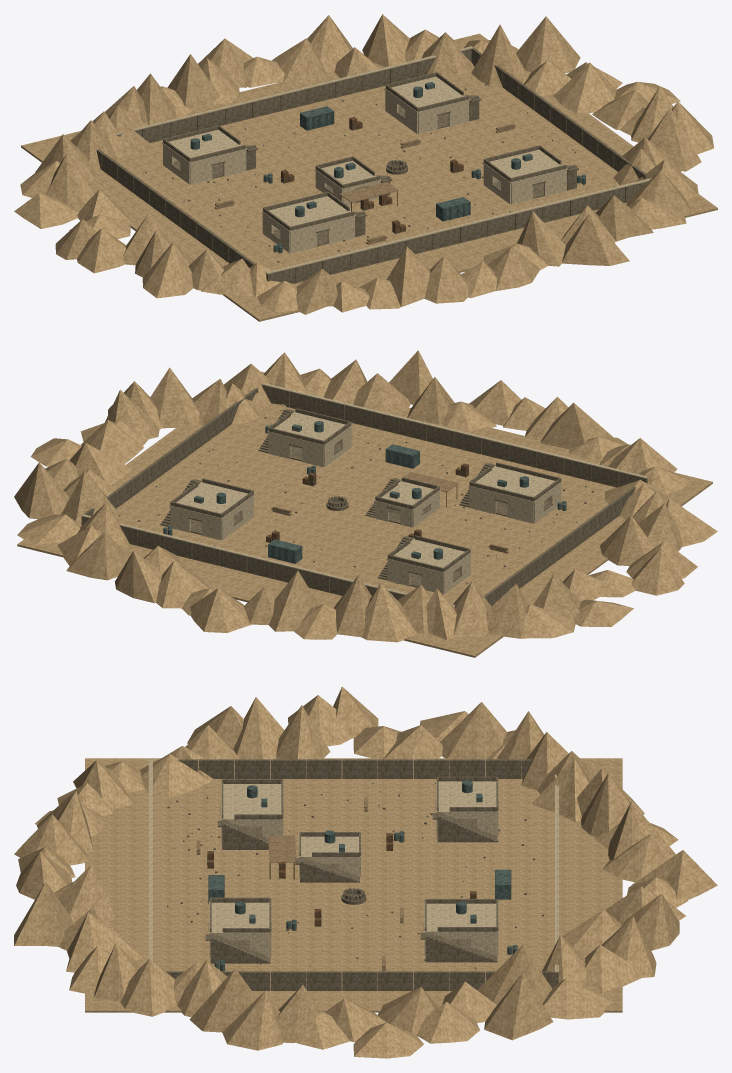
Rendered from Desert_Outpost.glb.
3 views of the same model, one above another, from view 1: azimuth 30°, elevation 25°; view 2: azimuth 150°, elevation 25°; view 3: azimuth 270°, elevation 25° (orthographic). The views are drawn at different scales.
Parts seen in each view (by area): view 1: Distant rock formations, Ground, Perimeter, Perimeter coping, Workshop, Radio house, West barracks, East barracks, Workshop Roof, Freight container, Radio house Roof, East barracks Roof (+12 smaller); view 2: Distant rock formations, Ground, Perimeter, Perimeter coping, Workshop, East barracks, Radio house, West barracks, Workshop Roof, Freight container, Radio house Roof, East barracks Roof (+10 smaller); view 3: Distant rock formations, Ground, Perimeter, Workshop Roof, Radio house Roof, Perimeter coping, West barracks Roof, East barracks Roof, Radio house stairs, West barracks stairs, East barracks stairs, Market Roof (+11 smaller).
Part boxes in pixels (<box>): Distant rock formations: <box>14,14,713,314</box>; Ground: <box>21,33,717,321</box>; Perimeter: <box>96,47,647,283</box>; Perimeter coping: <box>114,46,651,274</box>; Workshop: <box>262,213,355,253</box>; Radio house: <box>385,90,469,134</box>; West barracks: <box>163,144,246,184</box>; East barracks: <box>483,164,566,204</box>; Workshop Roof: <box>262,196,356,232</box>; Freight container: <box>300,106,470,221</box>; Radio house Roof: <box>384,76,470,113</box>; East barracks Roof: <box>482,149,567,183</box>; Distant rock formations: <box>14,350,717,642</box>; Ground: <box>17,371,712,657</box>; Perimeter: <box>81,385,647,606</box>; Perimeter coping: <box>81,383,648,606</box>; Workshop: <box>469,484,561,523</box>; East barracks: <box>268,427,351,467</box>; Radio house: <box>170,496,253,540</box>; West barracks: <box>387,554,470,594</box>; Workshop Roof: <box>468,465,562,502</box>; Freight container: <box>268,444,419,563</box>; Radio house Roof: <box>169,482,254,519</box>; East barracks Roof: <box>267,411,352,446</box>; Distant rock formations: <box>14,686,717,1058</box>; Ground: <box>85,758,622,1012</box>; Perimeter: <box>166,759,558,990</box>; Workshop Roof: <box>221,782,283,820</box>; Radio house Roof: <box>424,902,498,933</box>; Perimeter coping: <box>148,759,558,972</box>; West barracks Roof: <box>436,780,498,813</box>; East barracks Roof: <box>209,901,271,934</box>; Radio house stairs: <box>425,931,497,962</box>; West barracks stairs: <box>437,812,497,842</box>; East barracks stairs: <box>210,933,270,963</box>; Market Roof: <box>298,836,361,858</box>.
Bounding box in the file's own units: 137 × 10.28 × 118.
Materials: 7 (7 with a texture image).
